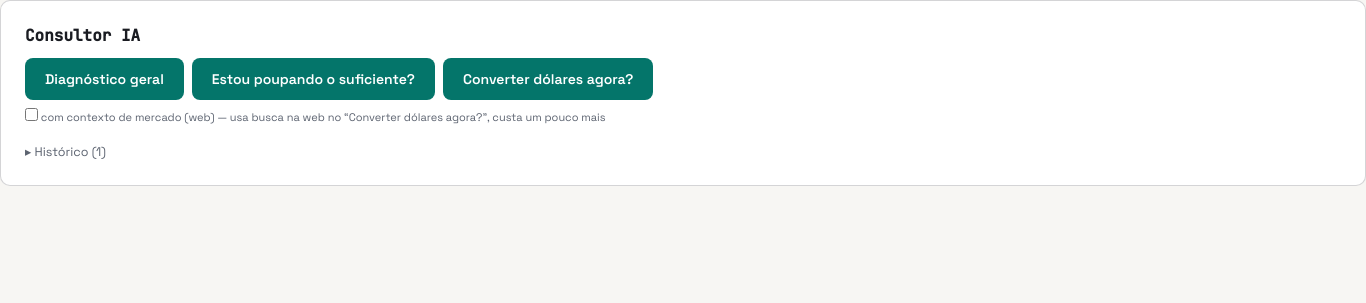
ConsultorIA › lists history collapsed and expands an entry
The width and height of the screenshot is (1366, 303).
Click the button "▸ Histórico (1)" at (65, 152), box 25,144 -> 106,160
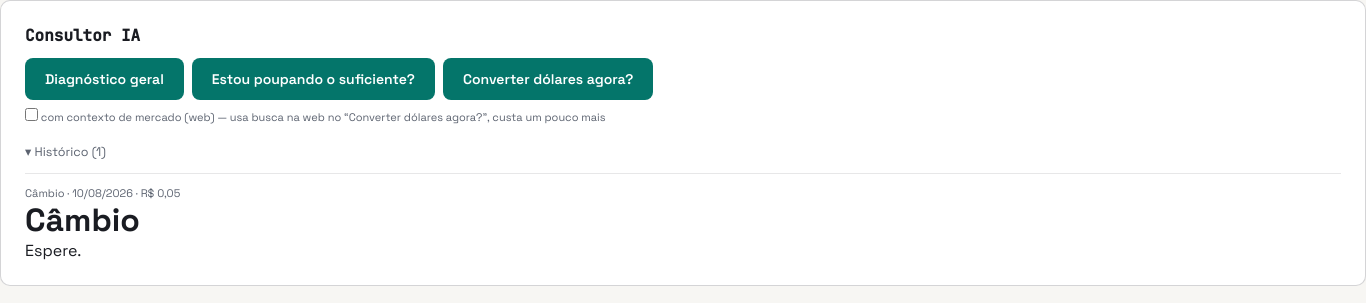
Result: the button "▾ Histórico (1)" is expanded at 25,144 -> 106,160
Result: the element with id "consultor-history" is shown at 25,173 -> 1341,261
Result: the heading "Câmbio" is shown at 25,200 -> 140,240
